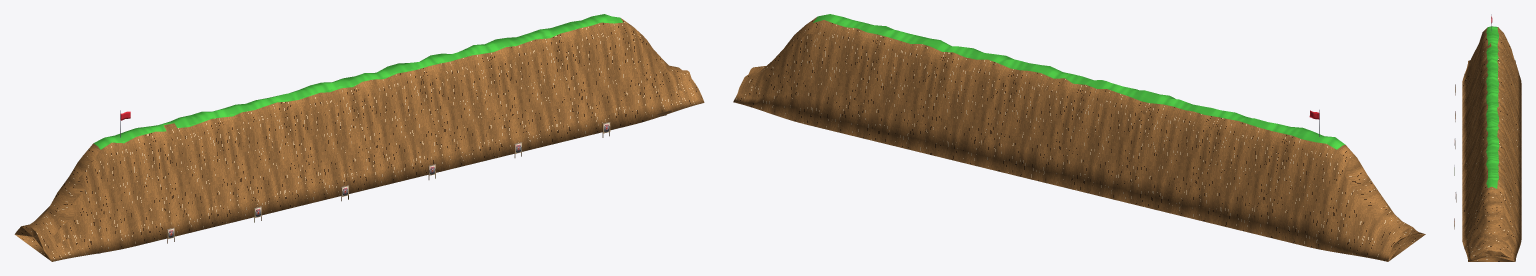
Rendered from p_berm.glb.
3 renders of one model, left to right at view 1: azimuth 30°, elevation 25°; view 2: azimuth 150°, elevation 25°; view 3: azimuth 270°, elevation 25°, orthographic. The views are drawn at different scales.
Visible parts, largest first — view 1: p_berm_lod0; view 2: p_berm_lod0; view 3: p_berm_lod0.
Part boxes in pixels (box(x1,y1,x2,y2)): p_berm_lod0: box(14, 14, 704, 261); p_berm_lod0: box(733, 14, 1425, 261); p_berm_lod0: box(1454, 14, 1521, 261).
Size of what is drawn, in the model's own units: 120 by 20.54 by 16.97.
2 materials, 2 textured.
